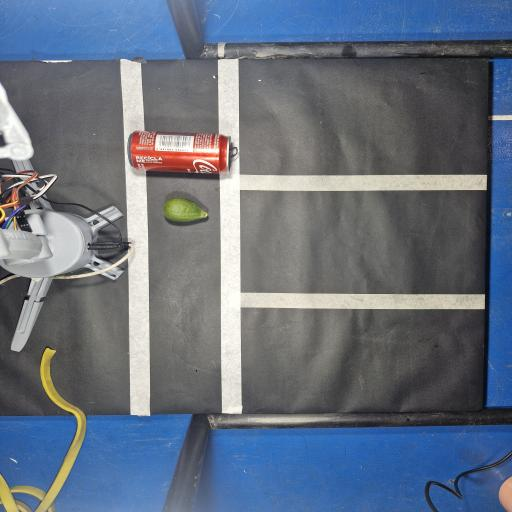higo: (164, 198, 207, 222)
lata: (128, 131, 230, 174)
